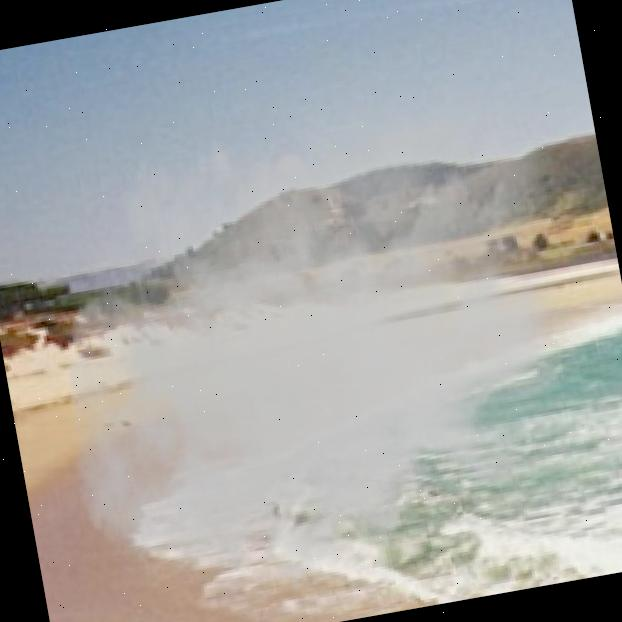smoke: (10, 21, 622, 622)
